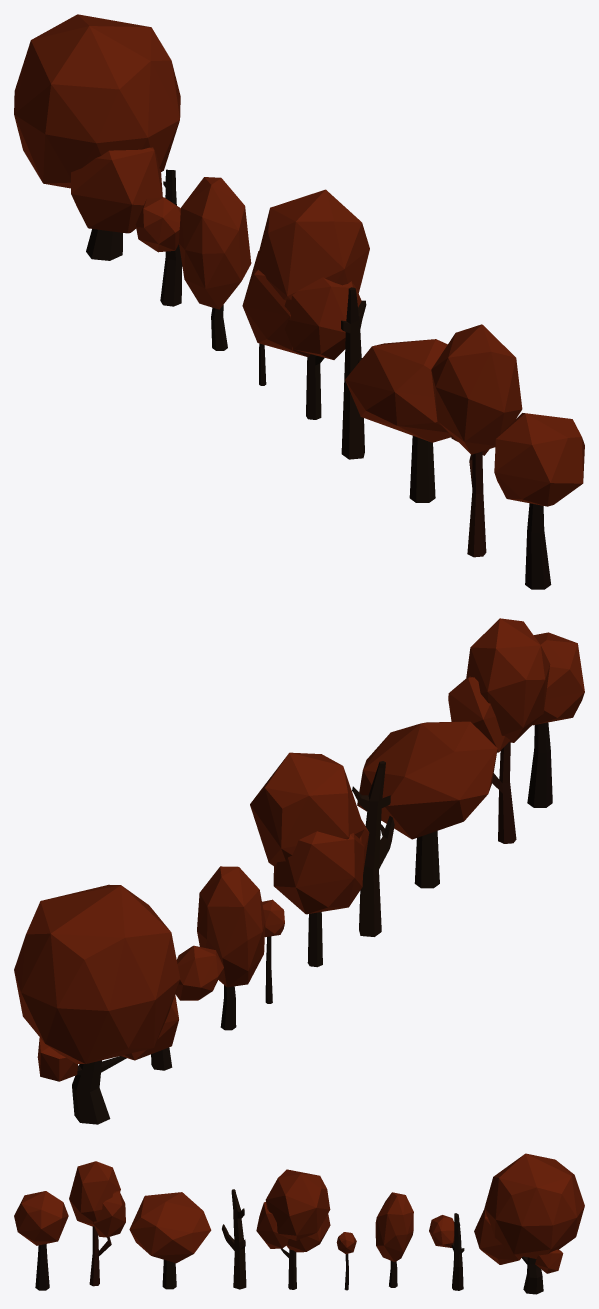
Rendered from autumnlowpolytreepack.obj.
3 renders of one model, top to bottom at view 1: azimuth 30°, elevation 25°; view 2: azimuth 150°, elevation 25°; view 3: azimuth 270°, elevation 25°, orthographic. The views are drawn at different scales.
Parts seen in each view (by area): view 1: Icosphere.007_Icosphere.010, Icosphere.003_Icosphere.018, Icosphere.001_Icosphere.015, Icosphere.002_Icosphere.016, Icosphere.005_Icosphere.020, Icosphere_Icosphere.014, Cylinder.003_Cylinder.009, Icosphere.006_Icosphere.021, Cylinder_Cylinder.006, Cylinder.001_Cylinder.007, Cylinder.002_Cylinder.008, Cylinder.007_Cylinder.014 (+2 smaller); view 2: Icosphere.007_Icosphere.010, Icosphere.003_Icosphere.018, Icosphere.002_Icosphere.016, Icosphere.001_Icosphere.015, Icosphere.005_Icosphere.020, Cylinder.003_Cylinder.009, Icosphere_Icosphere.014, Icosphere.006_Icosphere.021, Cylinder.008_Cylinder.005, Cylinder_Cylinder.006, Cylinder.001_Cylinder.007, Cylinder.002_Cylinder.008 (+2 smaller); view 3: Icosphere.007_Icosphere.010, Icosphere.003_Icosphere.018, Icosphere.002_Icosphere.016, Icosphere.001_Icosphere.015, Icosphere_Icosphere.014, Icosphere.005_Icosphere.020, Cylinder.003_Cylinder.009, Icosphere.006_Icosphere.021, Cylinder.007_Cylinder.014, Cylinder.008_Cylinder.005, Cylinder.001_Cylinder.007, Cylinder_Cylinder.006 (+4 smaller).
Part boxes in pixels (bbox=[...]): Icosphere.007_Icosphere.010: bbox=[14, 14, 180, 233]; Icosphere.003_Icosphere.018: bbox=[242, 189, 369, 359]; Icosphere.001_Icosphere.015: bbox=[431, 324, 522, 455]; Icosphere.002_Icosphere.016: bbox=[345, 339, 451, 442]; Icosphere.005_Icosphere.020: bbox=[179, 177, 251, 309]; Icosphere_Icosphere.014: bbox=[494, 413, 584, 506]; Cylinder.003_Cylinder.009: bbox=[341, 287, 366, 459]; Icosphere.006_Icosphere.021: bbox=[135, 197, 180, 252]; Cylinder_Cylinder.006: bbox=[525, 503, 551, 589]; Cylinder.001_Cylinder.007: bbox=[467, 451, 486, 557]; Cylinder.002_Cylinder.008: bbox=[409, 436, 435, 502]; Cylinder.007_Cylinder.014: bbox=[160, 169, 182, 306]; Icosphere.007_Icosphere.010: bbox=[14, 884, 180, 1081]; Icosphere.003_Icosphere.018: bbox=[250, 752, 369, 914]; Icosphere.002_Icosphere.016: bbox=[357, 721, 497, 839]; Icosphere.001_Icosphere.015: bbox=[448, 618, 550, 752]; Icosphere.005_Icosphere.020: bbox=[197, 866, 265, 987]; Cylinder.003_Cylinder.009: bbox=[352, 761, 394, 936]; Icosphere_Icosphere.014: bbox=[533, 632, 584, 725]; Icosphere.006_Icosphere.021: bbox=[175, 945, 223, 1000]; Cylinder.008_Cylinder.005: bbox=[72, 1056, 126, 1124]; Cylinder_Cylinder.006: bbox=[527, 722, 552, 807]; Cylinder.001_Cylinder.007: bbox=[492, 742, 516, 843]; Cylinder.002_Cylinder.008: bbox=[414, 831, 439, 888]; Icosphere.007_Icosphere.010: bbox=[474, 1153, 584, 1273]; Icosphere.003_Icosphere.018: bbox=[256, 1169, 330, 1252]; Icosphere.002_Icosphere.016: bbox=[129, 1192, 211, 1263]; Icosphere.001_Icosphere.015: bbox=[69, 1161, 125, 1237]; Icosphere_Icosphere.014: bbox=[14, 1191, 68, 1245]; Icosphere.005_Icosphere.020: bbox=[375, 1192, 413, 1261]; Cylinder.003_Cylinder.009: bbox=[222, 1189, 246, 1289]; Icosphere.006_Icosphere.021: bbox=[429, 1215, 454, 1247]; Cylinder.007_Cylinder.014: bbox=[451, 1213, 464, 1290]; Cylinder.008_Cylinder.005: bbox=[522, 1256, 543, 1294]; Cylinder.001_Cylinder.007: bbox=[89, 1226, 111, 1286]; Cylinder_Cylinder.006: bbox=[35, 1244, 49, 1290].
Size of the model in its own units: 10.08 by 16.27 by 63.23.
